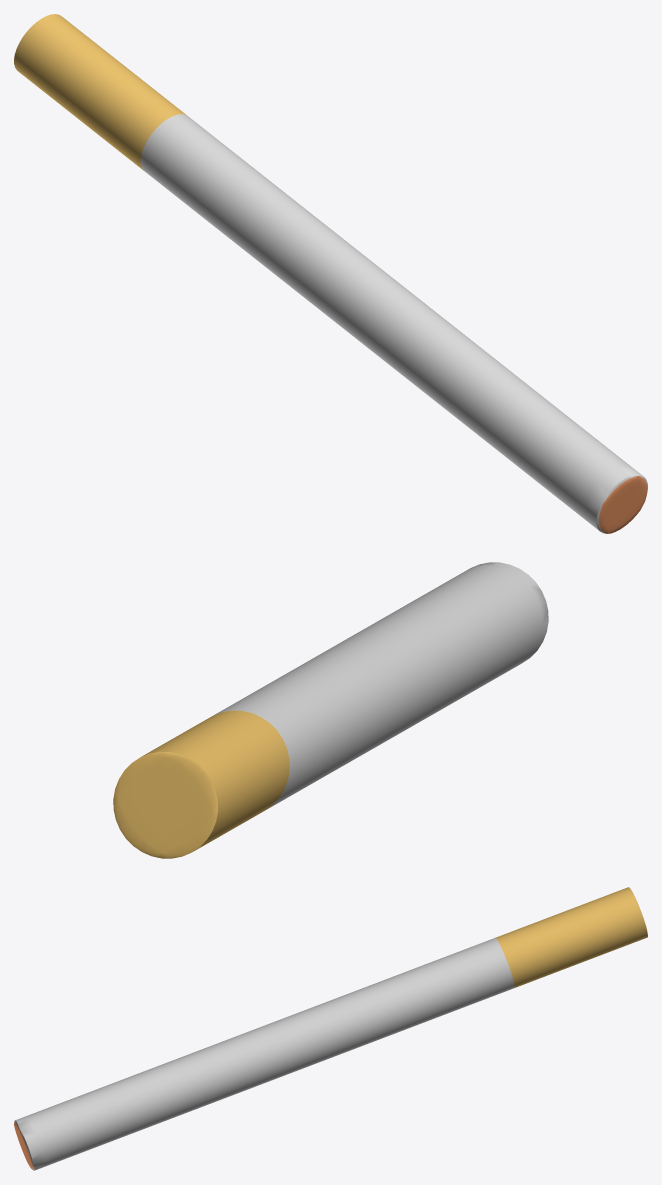
File: Cigarette.gltf
The picture shows the model from 3 angles, top to bottom: view 1: azimuth 30°, elevation 25°; view 2: azimuth 150°, elevation 25°; view 3: azimuth 270°, elevation 25°; orthographic projection. The views are drawn at different scales.
Visible parts, largest first — view 1: mouth2-PBR.1, mouth2-PBR, mouth2-PBR.2; view 2: mouth2-PBR.1, mouth2-PBR; view 3: mouth2-PBR.1, mouth2-PBR.
Part boxes in pixels (<box>): mouth2-PBR.1: <box>140,114,647,533</box>; mouth2-PBR: <box>14,14,187,170</box>; mouth2-PBR.2: <box>599,476,647,533</box>; mouth2-PBR.1: <box>213,562,548,810</box>; mouth2-PBR: <box>113,710,289,858</box>; mouth2-PBR.1: <box>14,938,514,1170</box>; mouth2-PBR: <box>495,887,647,987</box>.
Size of the model in its own units: 0.773 by 0.8367 by 2.27.
